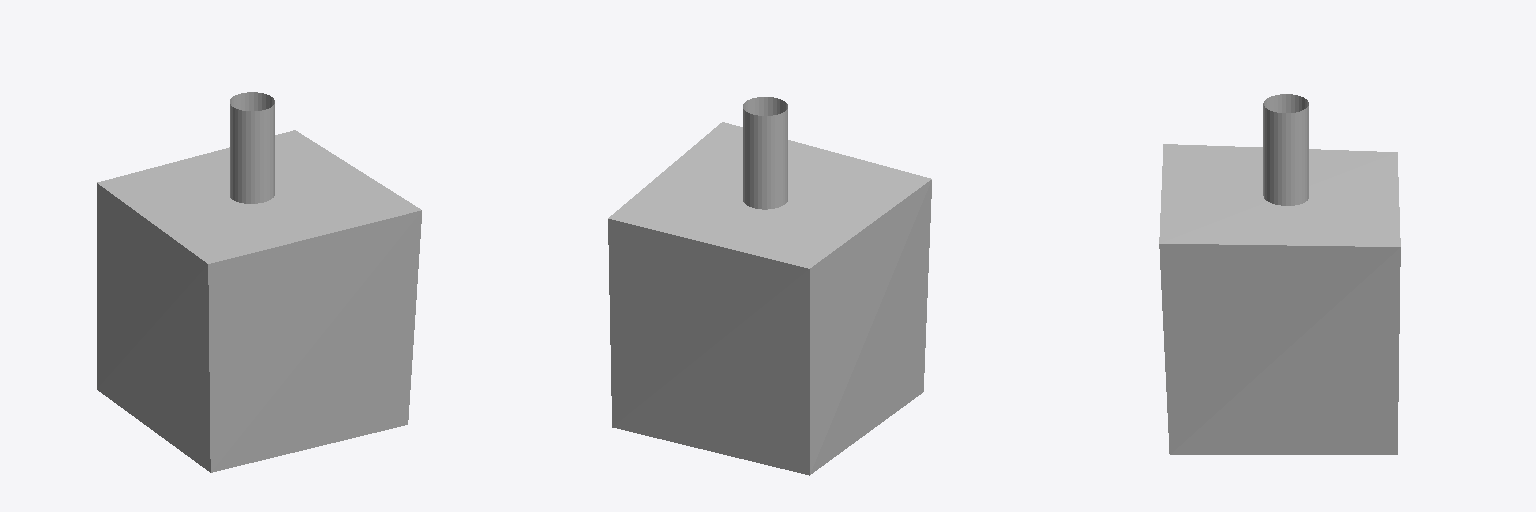
The model's file is Tronco2.obj.
The picture shows the model from 3 angles: view 1: azimuth 30°, elevation 25°; view 2: azimuth 150°, elevation 25°; view 3: azimuth 270°, elevation 25°; orthographic projection.
Visible parts, largest first — view 1: Cube, Cylinder; view 2: Cube, Cylinder; view 3: Cube, Cylinder.
Part boxes in pixels (bbox=[...]): Cube: bbox=[97, 130, 421, 472]; Cylinder: bbox=[230, 92, 274, 203]; Cube: bbox=[608, 122, 931, 475]; Cylinder: bbox=[743, 97, 787, 209]; Cube: bbox=[1159, 144, 1400, 454]; Cylinder: bbox=[1263, 94, 1308, 205].
Size of the model in its own units: 1.07 by 1.47 by 1.06.